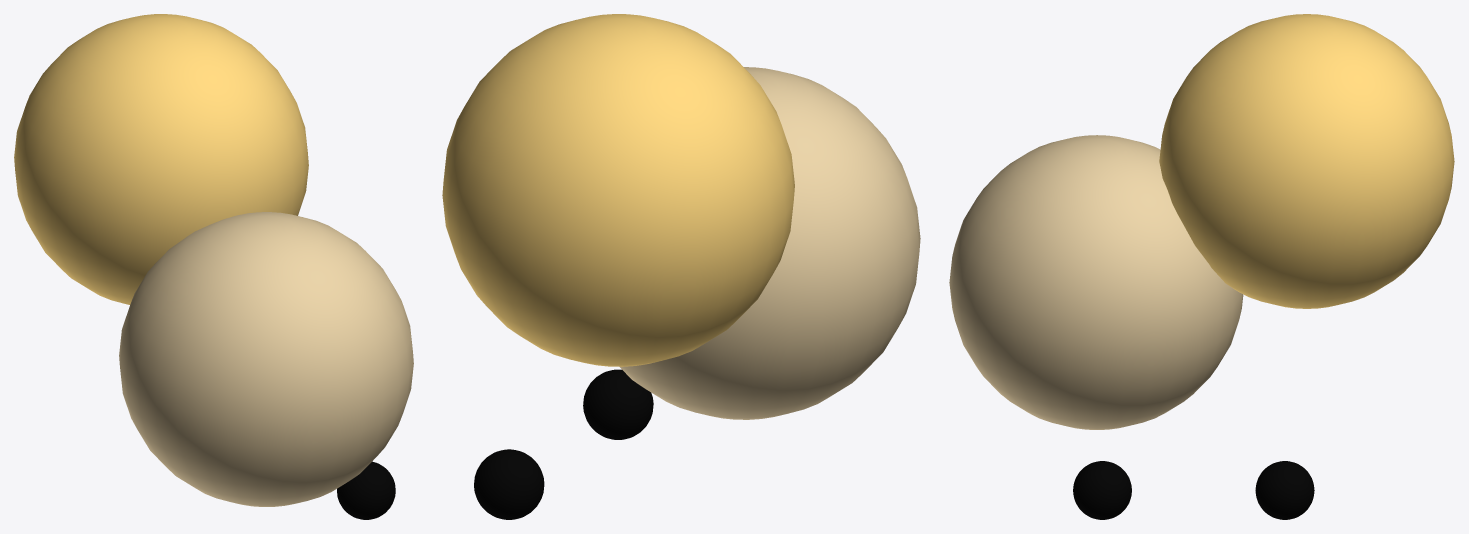
File: orange.gltf
3 views of the same model, side by side, from view 1: azimuth 30°, elevation 25°; view 2: azimuth 150°, elevation 25°; view 3: azimuth 270°, elevation 25° (orthographic). The views are drawn at different scales.
Visible parts, largest first — view 1: Sphere, Sphere.001, Sphere.002; view 2: Sphere.001, Sphere, Sphere.003, Sphere.002; view 3: Sphere.001, Sphere, Sphere.003, Sphere.002.
Part boxes in pixels (bbox=[...]): Sphere: bbox=[119, 212, 413, 506]; Sphere.001: bbox=[14, 14, 308, 304]; Sphere.002: bbox=[337, 461, 395, 519]; Sphere.001: bbox=[442, 14, 794, 366]; Sphere: bbox=[619, 67, 920, 419]; Sphere.003: bbox=[474, 449, 544, 519]; Sphere.002: bbox=[583, 369, 653, 439]; Sphere.001: bbox=[1159, 14, 1454, 308]; Sphere: bbox=[949, 135, 1243, 429]; Sphere.003: bbox=[1255, 461, 1314, 519]; Sphere.002: bbox=[1073, 461, 1131, 519].
Bounding box in the file's own units: 2 × 3.28 × 3.42.
